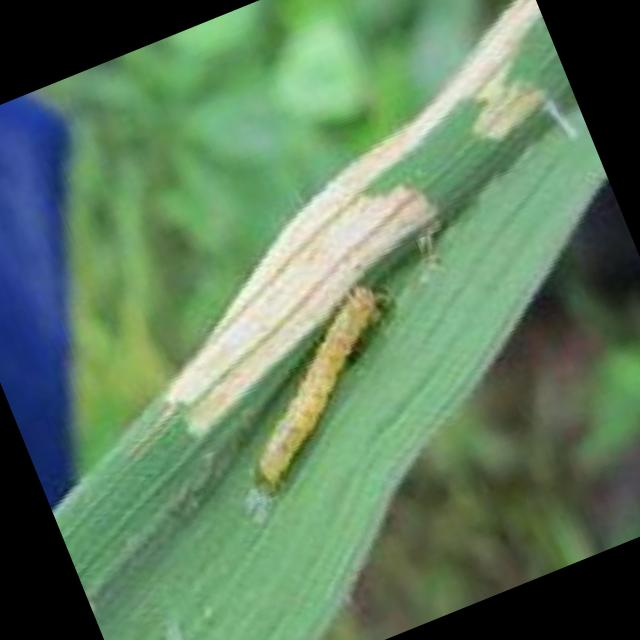leaf-folder: (184, 255, 452, 510)
